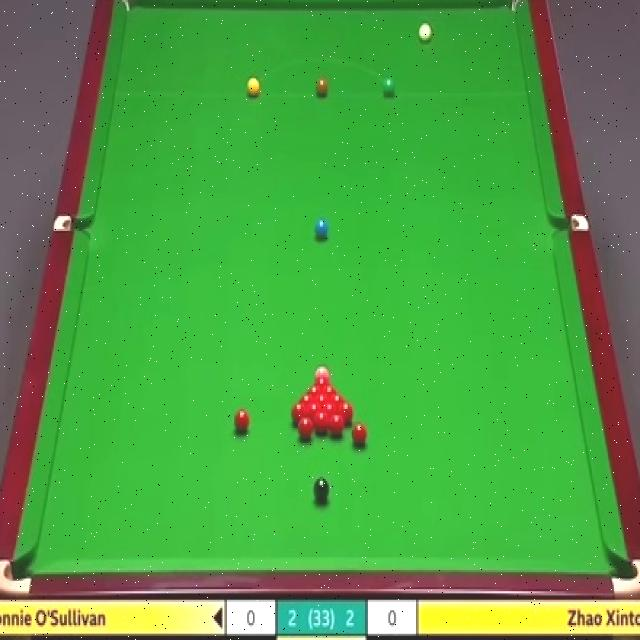black-ball: (312, 474, 330, 504)
blue-ball: (316, 219, 329, 242)
brown-ball: (314, 76, 328, 95)
green-ball: (383, 77, 395, 97)
pink-ball: (314, 361, 330, 380)
red-ball: (232, 409, 252, 436), (352, 421, 368, 450), (296, 418, 314, 442), (314, 410, 329, 436), (336, 402, 354, 423), (329, 416, 346, 438), (291, 402, 307, 424), (306, 401, 322, 418), (322, 404, 337, 422), (320, 386, 339, 396), (299, 394, 314, 406), (314, 394, 330, 405), (329, 394, 346, 404), (312, 376, 330, 385), (304, 386, 321, 395)
white-ball: (417, 22, 432, 46)
yellow-ball: (246, 75, 261, 98)
